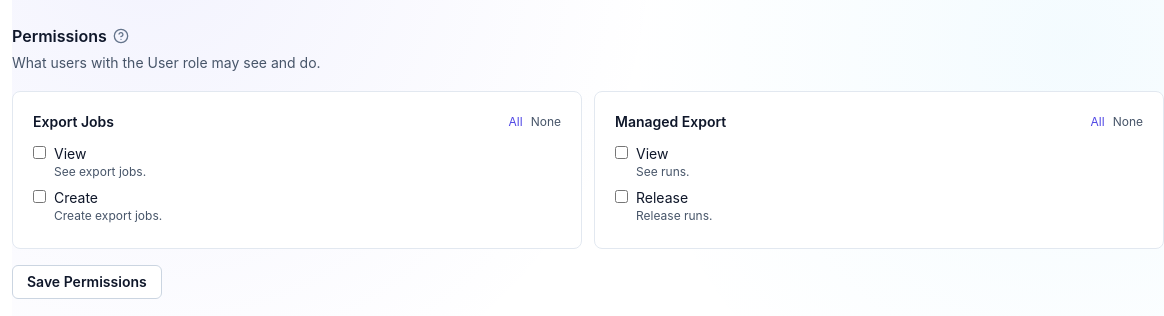
PermissionsSettings › ticks View along with any other permission of the same menu item
This screenshot has width=1164, height=316.
Click the checkbox labelled "Create Create export jobs.". click: (40, 196)
box: [33, 190, 46, 203]
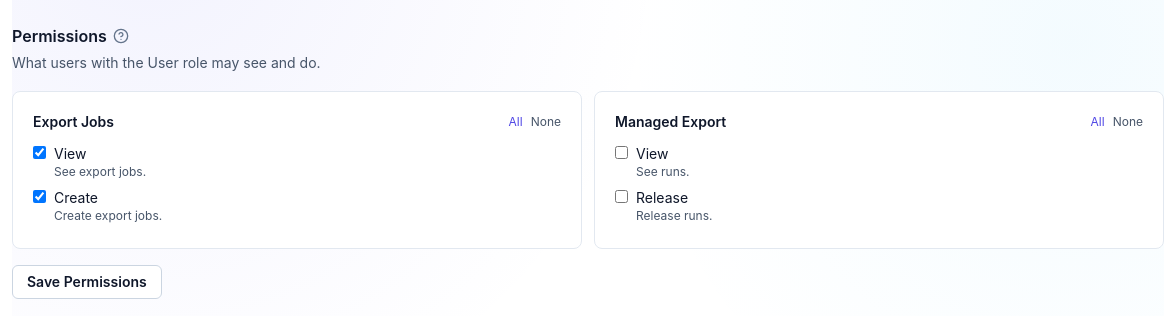
Result: the checkbox labelled "View See export jobs." is checked at [33, 146, 46, 159]
